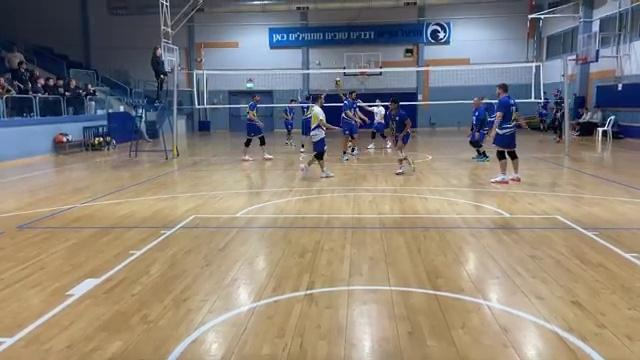ball: (332, 76, 346, 87)
